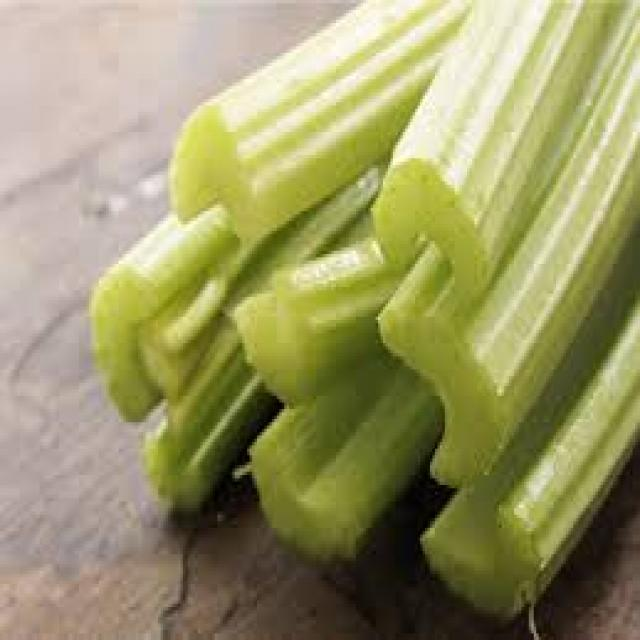organic waste: (373, 0, 638, 485), (415, 195, 638, 620), (133, 162, 388, 508), (368, 0, 638, 284), (168, 0, 467, 244), (242, 333, 450, 561), (220, 241, 427, 399), (87, 211, 237, 422)
